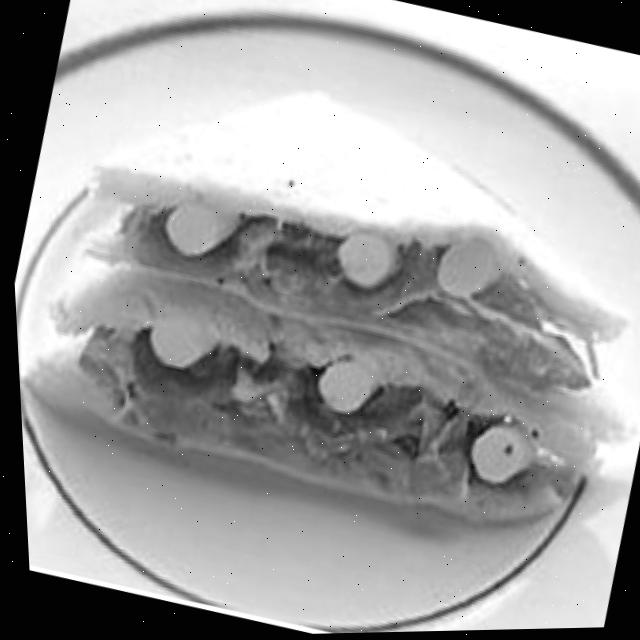三明治: (2, 35, 640, 596)
